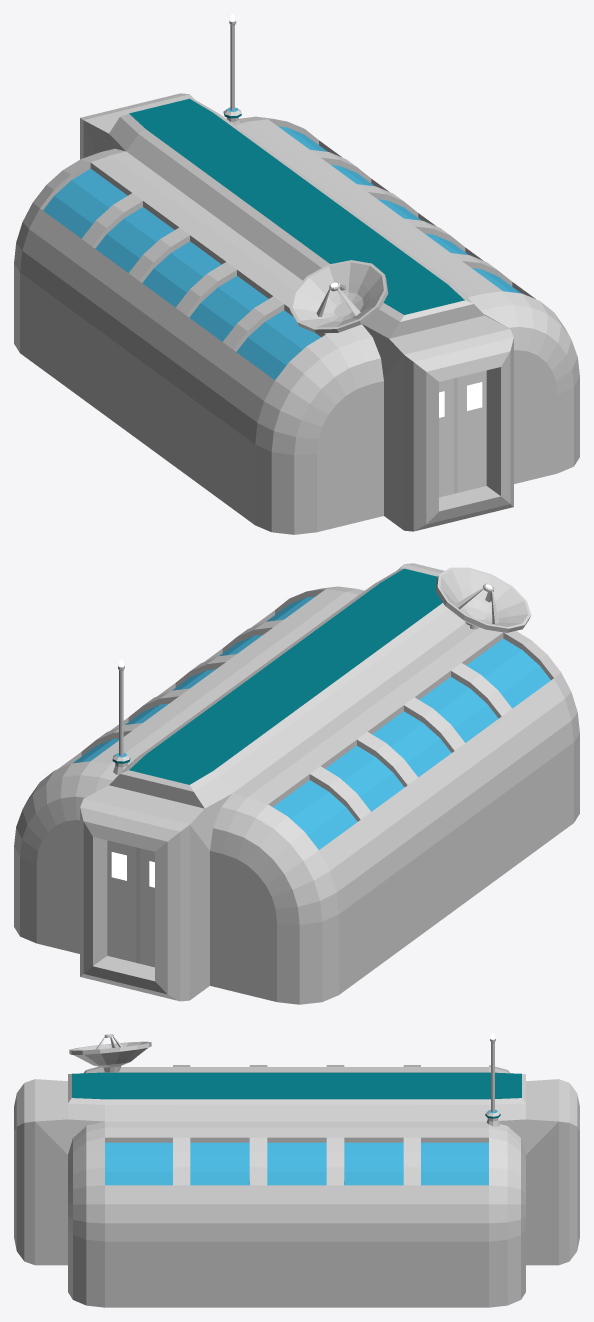
File: Research module.fbx
The picture shows the model from 3 angles, top to bottom: view 1: azimuth 30°, elevation 25°; view 2: azimuth 150°, elevation 25°; view 3: azimuth 270°, elevation 25°; orthographic projection. The views are drawn at different scales.
Visible parts, largest first — view 1: Research Module; view 2: Research Module; view 3: Research Module.
Part boxes in pixels (x1,y1,x2,y2): Research Module: (14, 14, 579, 534); Research Module: (14, 563, 579, 1004); Research Module: (14, 1033, 579, 1307).
Size of the model in its own units: 546 by 465 by 1028.
